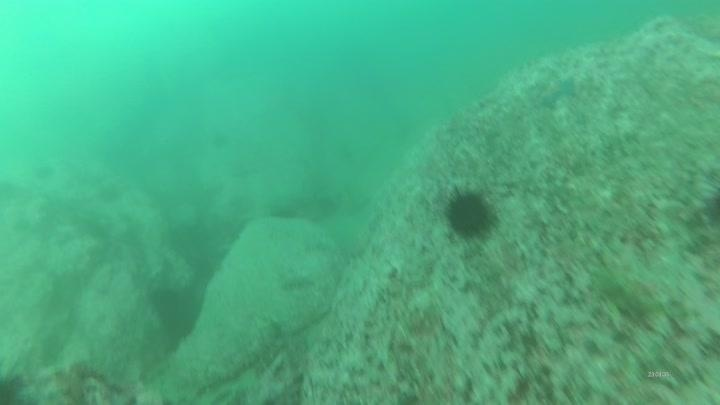echinus: (442, 185, 498, 241), (91, 175, 129, 207), (22, 154, 60, 186)
starfish: (534, 74, 579, 110)
